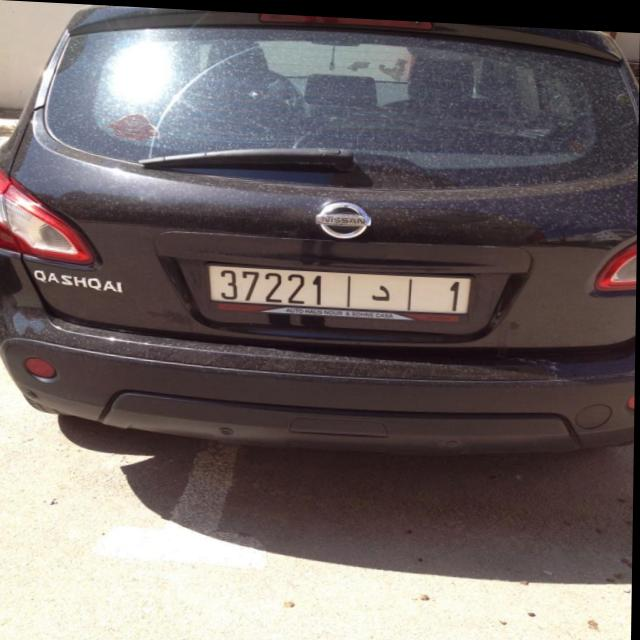License-Plate: (209, 263, 472, 309)
